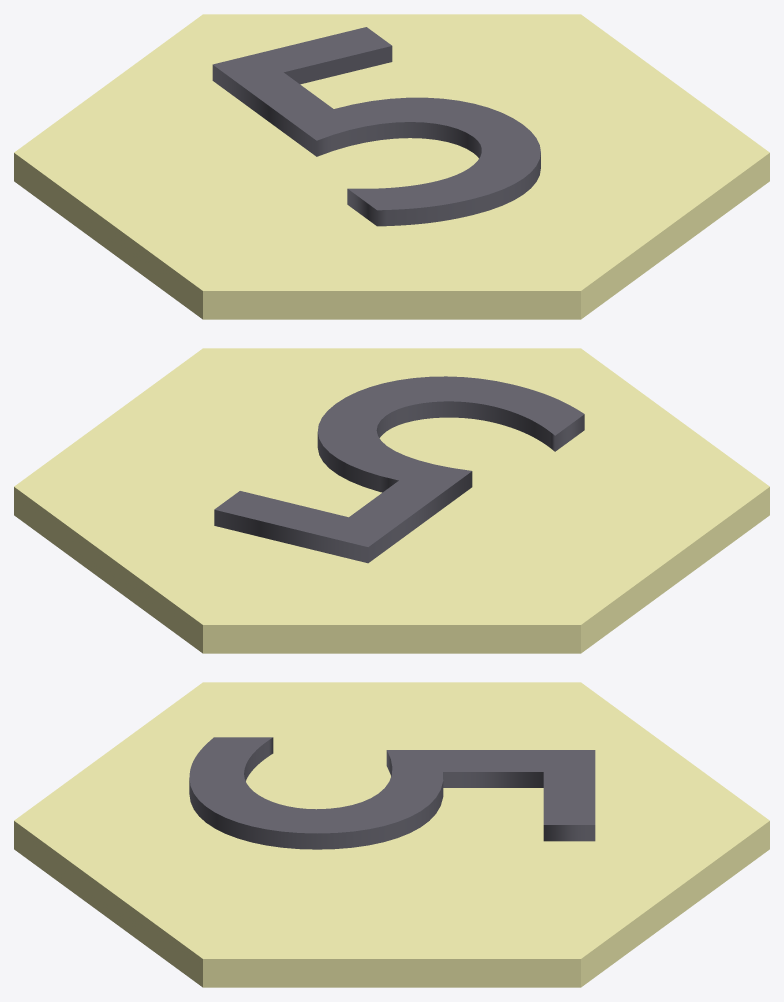
The model's file is station_5.dae.
The picture shows the model from 3 angles, top to bottom: view 1: azimuth 30°, elevation 25°; view 2: azimuth 150°, elevation 25°; view 3: azimuth 270°, elevation 25°; orthographic projection.
Parts seen in each view (by area): view 1: Text_007; view 2: Text_007; view 3: Text_007.
Part boxes in pixels (box(x1,y1,x2,y2)): Text_007: box(14, 14, 769, 319); Text_007: box(14, 348, 769, 653); Text_007: box(14, 682, 769, 987).
Bounding box in the file's own units: 0.7359 × 0.8498 × 0.0762.
